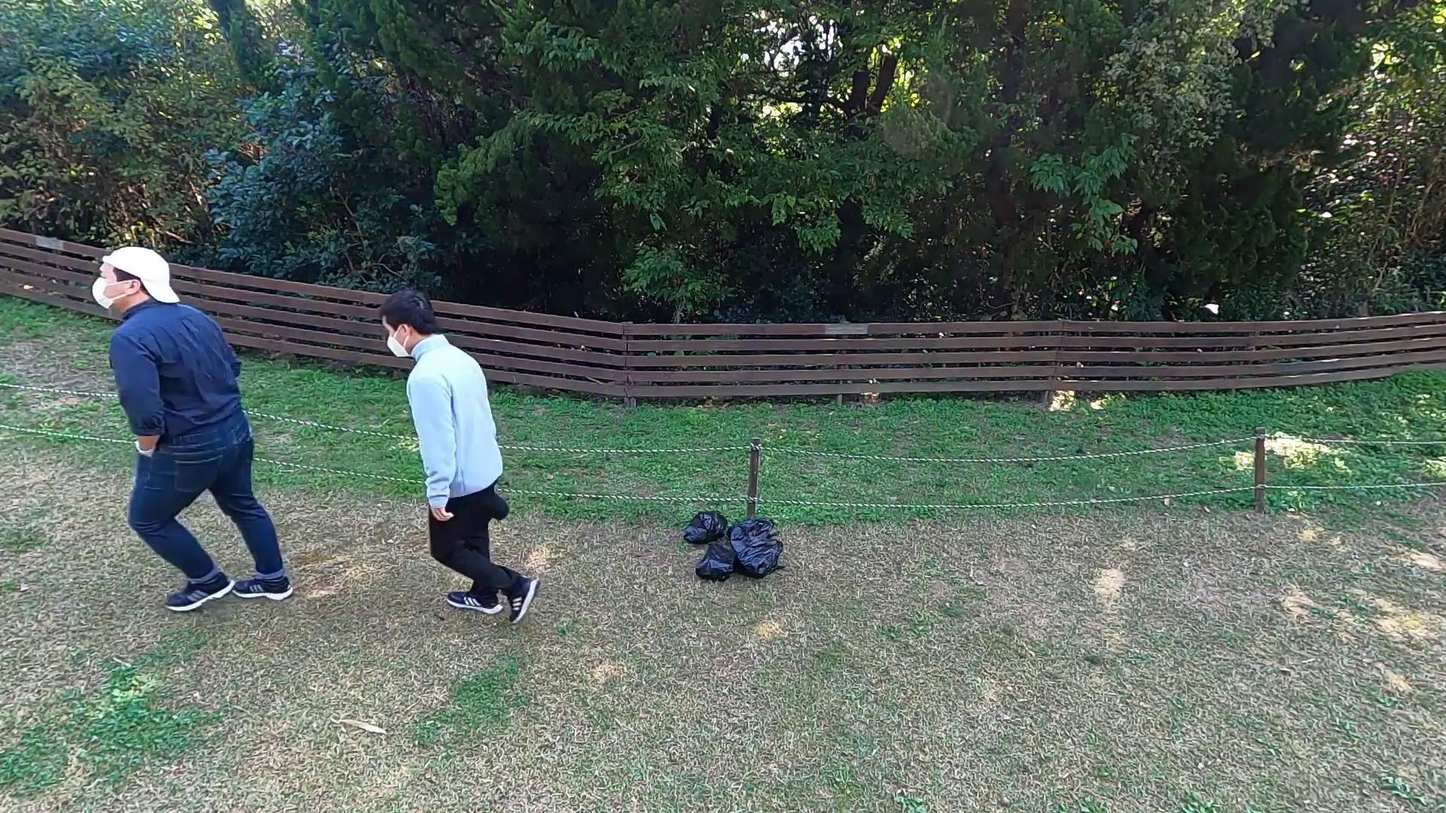person: (91, 245, 298, 614), (378, 285, 541, 625)
trash: (732, 533, 785, 580), (726, 518, 778, 556), (693, 541, 737, 582), (684, 509, 728, 546)
